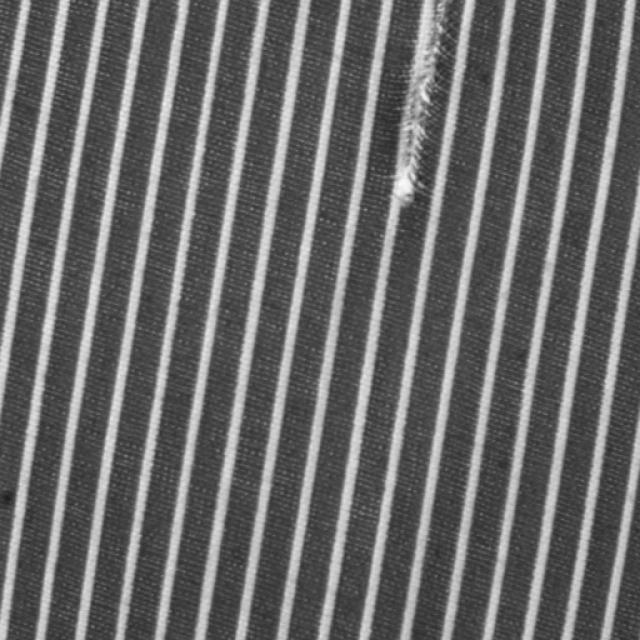Hole-Defect: (391, 0, 455, 206)
